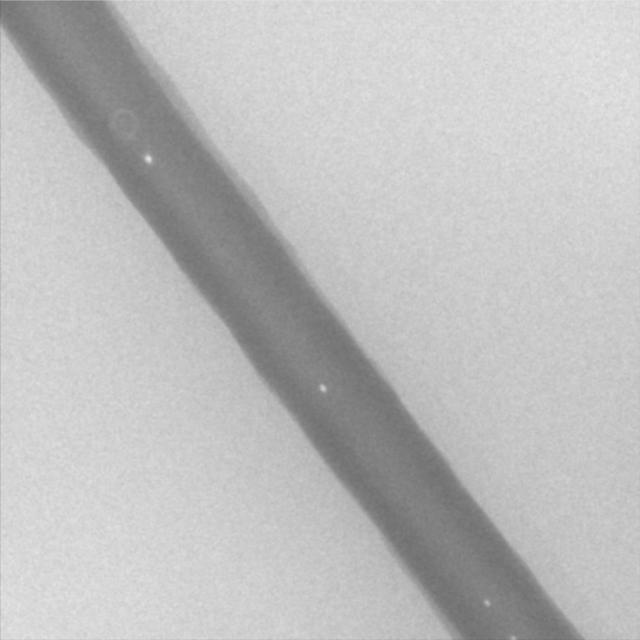air hole: (142, 154, 153, 165), (317, 384, 328, 394), (482, 599, 492, 609)
hollow bead: (108, 106, 139, 141)
